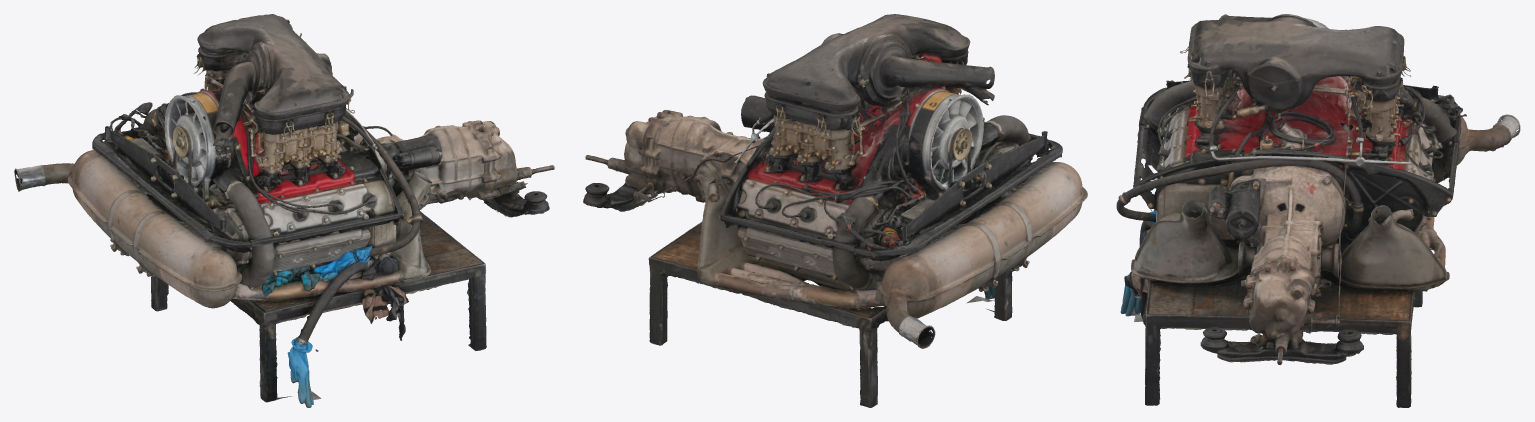
The model's file is porsche_motor_von_1967.glb.
3 renders of one model, left to right at view 1: azimuth 30°, elevation 25°; view 2: azimuth 150°, elevation 25°; view 3: azimuth 270°, elevation 25°, orthographic. The views are drawn at different scales.
Parts seen in each view (by area): view 1: Object_4, Object_3, Object_2, Object_6, Object_7, Object_5; view 2: Object_5, Object_3, Object_4, Object_2, Object_6, Object_7; view 3: Object_2, Object_3, Object_5, Object_4, Object_6, Object_7.
Part boxes in pixels (<box>): Object_4: <box>98,73,403,407</box>; Object_3: <box>111,15,554,351</box>; Object_2: <box>197,19,542,350</box>; Object_6: <box>18,18,397,403</box>; Object_7: <box>146,20,412,341</box>; Object_5: <box>14,14,372,360</box>; Object_5: <box>648,68,1074,407</box>; Object_3: <box>585,14,1058,276</box>; Object_4: <box>760,91,1087,324</box>; Object_2: <box>583,73,962,269</box>; Object_6: <box>733,75,1087,403</box>; Object_7: <box>799,20,1061,247</box>; Object_2: <box>1116,33,1449,405</box>; Object_3: <box>1118,14,1414,399</box>; Object_5: <box>1149,30,1520,407</box>; Object_4: <box>1120,75,1452,321</box>; Object_6: <box>1134,27,1511,307</box>; Object_7: <box>1122,14,1382,298</box>.
Bounding box in the file's own units: 1.59 × 1.04 × 1.21.
1 material, 1 textured.
